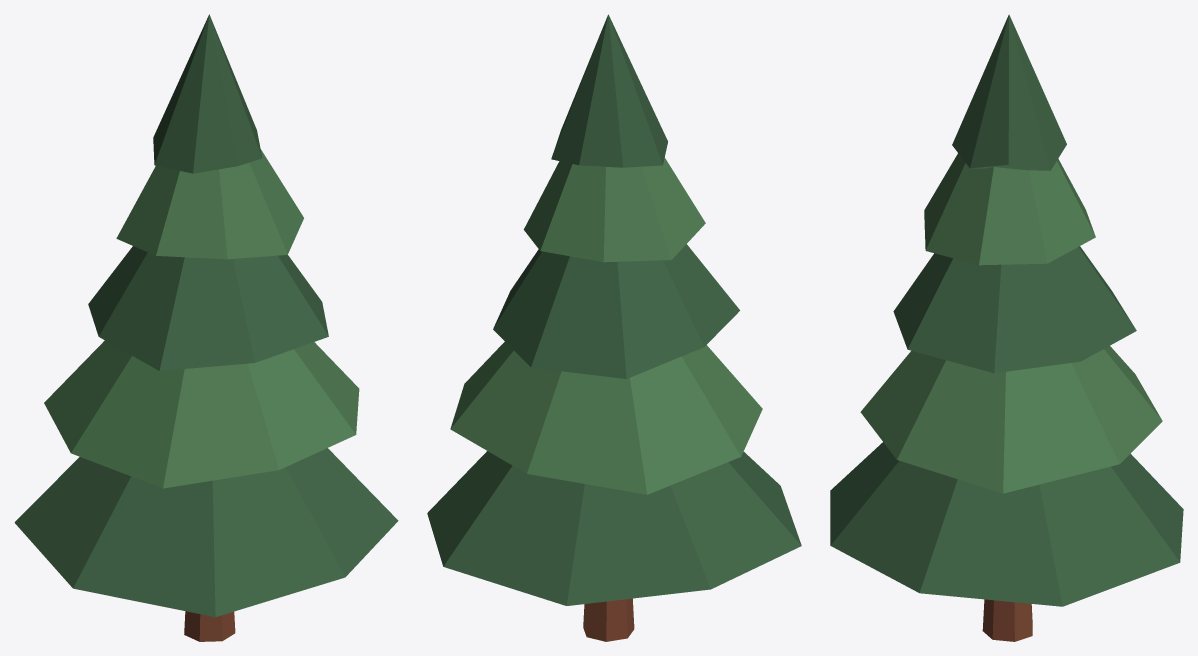
The model's file is Tree_Pine.glb.
3 views of the same model, side by side, from view 1: azimuth 30°, elevation 25°; view 2: azimuth 150°, elevation 25°; view 3: azimuth 270°, elevation 25° (orthographic).
Visible parts, largest first — view 1: Tree_Pine; view 2: Tree_Pine; view 3: Tree_Pine.
Boxes of the visible parts, <box> form: Tree_Pine: <box>14,14,398,641</box>; Tree_Pine: <box>427,14,801,641</box>; Tree_Pine: <box>830,14,1183,641</box>.
Size of the model in its own units: 2.52 by 4.65 by 2.41.
